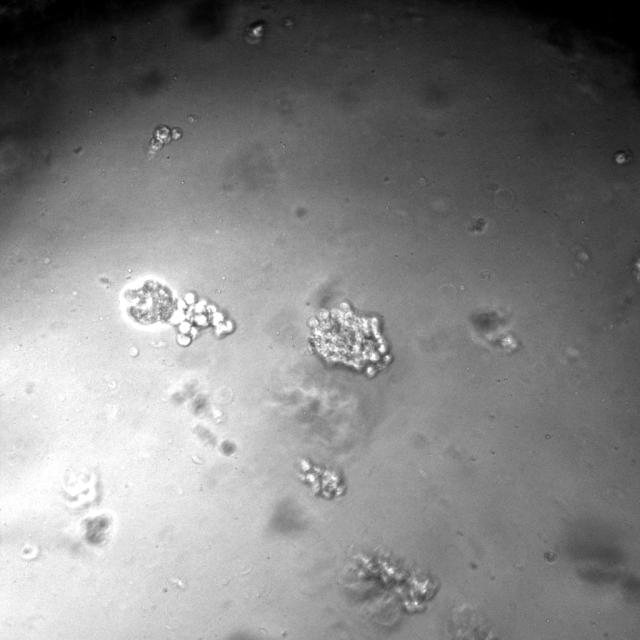organoid: (121, 277, 234, 346), (308, 301, 392, 378), (341, 550, 438, 613), (299, 459, 345, 499), (61, 468, 100, 509), (81, 512, 114, 547), (148, 125, 182, 153), (245, 20, 266, 44), (612, 149, 633, 165)
